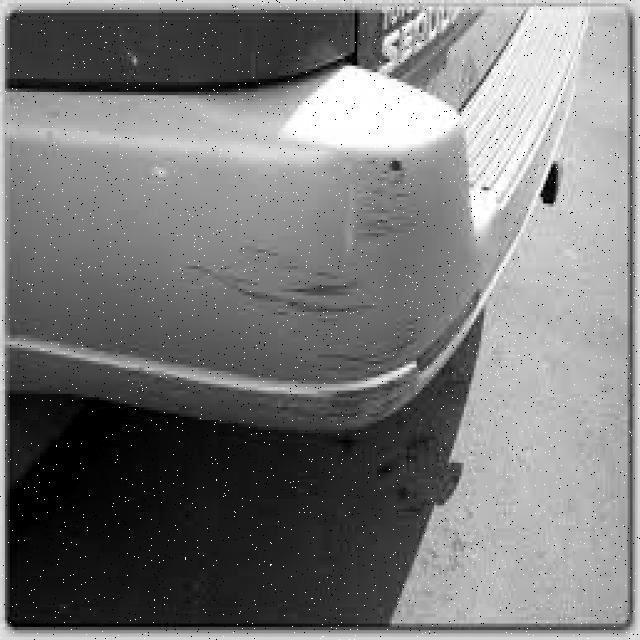rear-bumper-dent: (13, 67, 578, 438)
